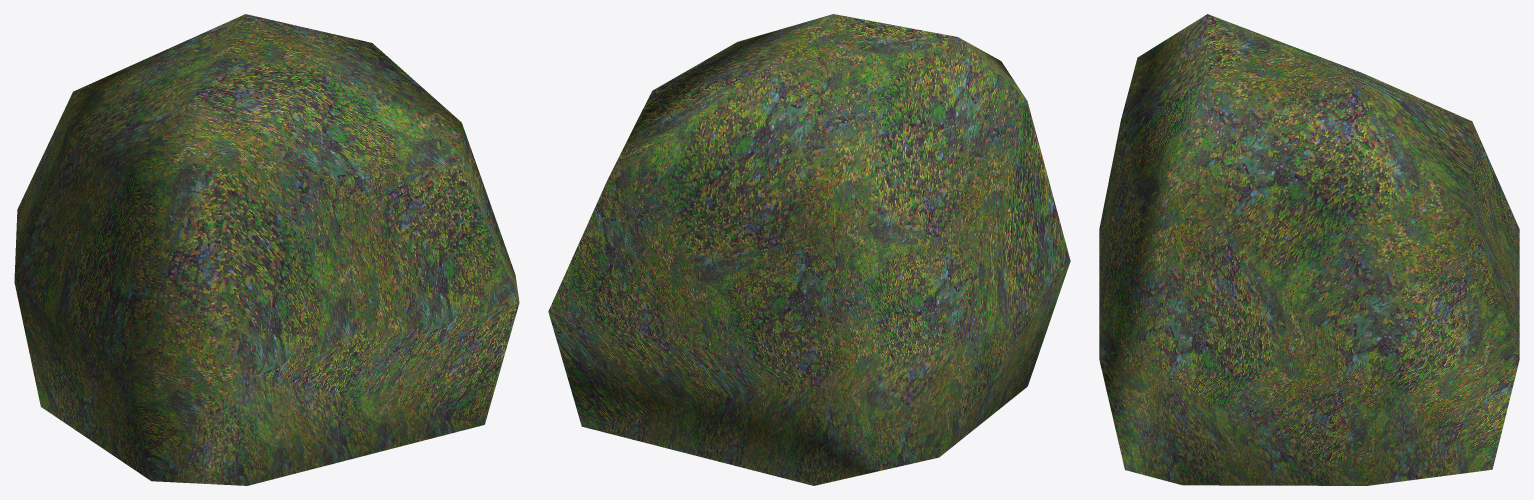
File: rock_mossy_small_a1_l2.fbx
3 renders of one model, left to right at view 1: azimuth 30°, elevation 25°; view 2: azimuth 150°, elevation 25°; view 3: azimuth 270°, elevation 25°, orthographic. The views are drawn at different scales.
Parts seen in each view (by area): view 1: mesh_node; view 2: mesh_node; view 3: mesh_node.
Part boxes in pixels (<box>): mesh_node: <box>14,14,519,485</box>; mesh_node: <box>548,14,1070,485</box>; mesh_node: <box>1099,14,1519,485</box>.
Bounding box in the file's own units: 2.02 × 1.83 × 2.02.
